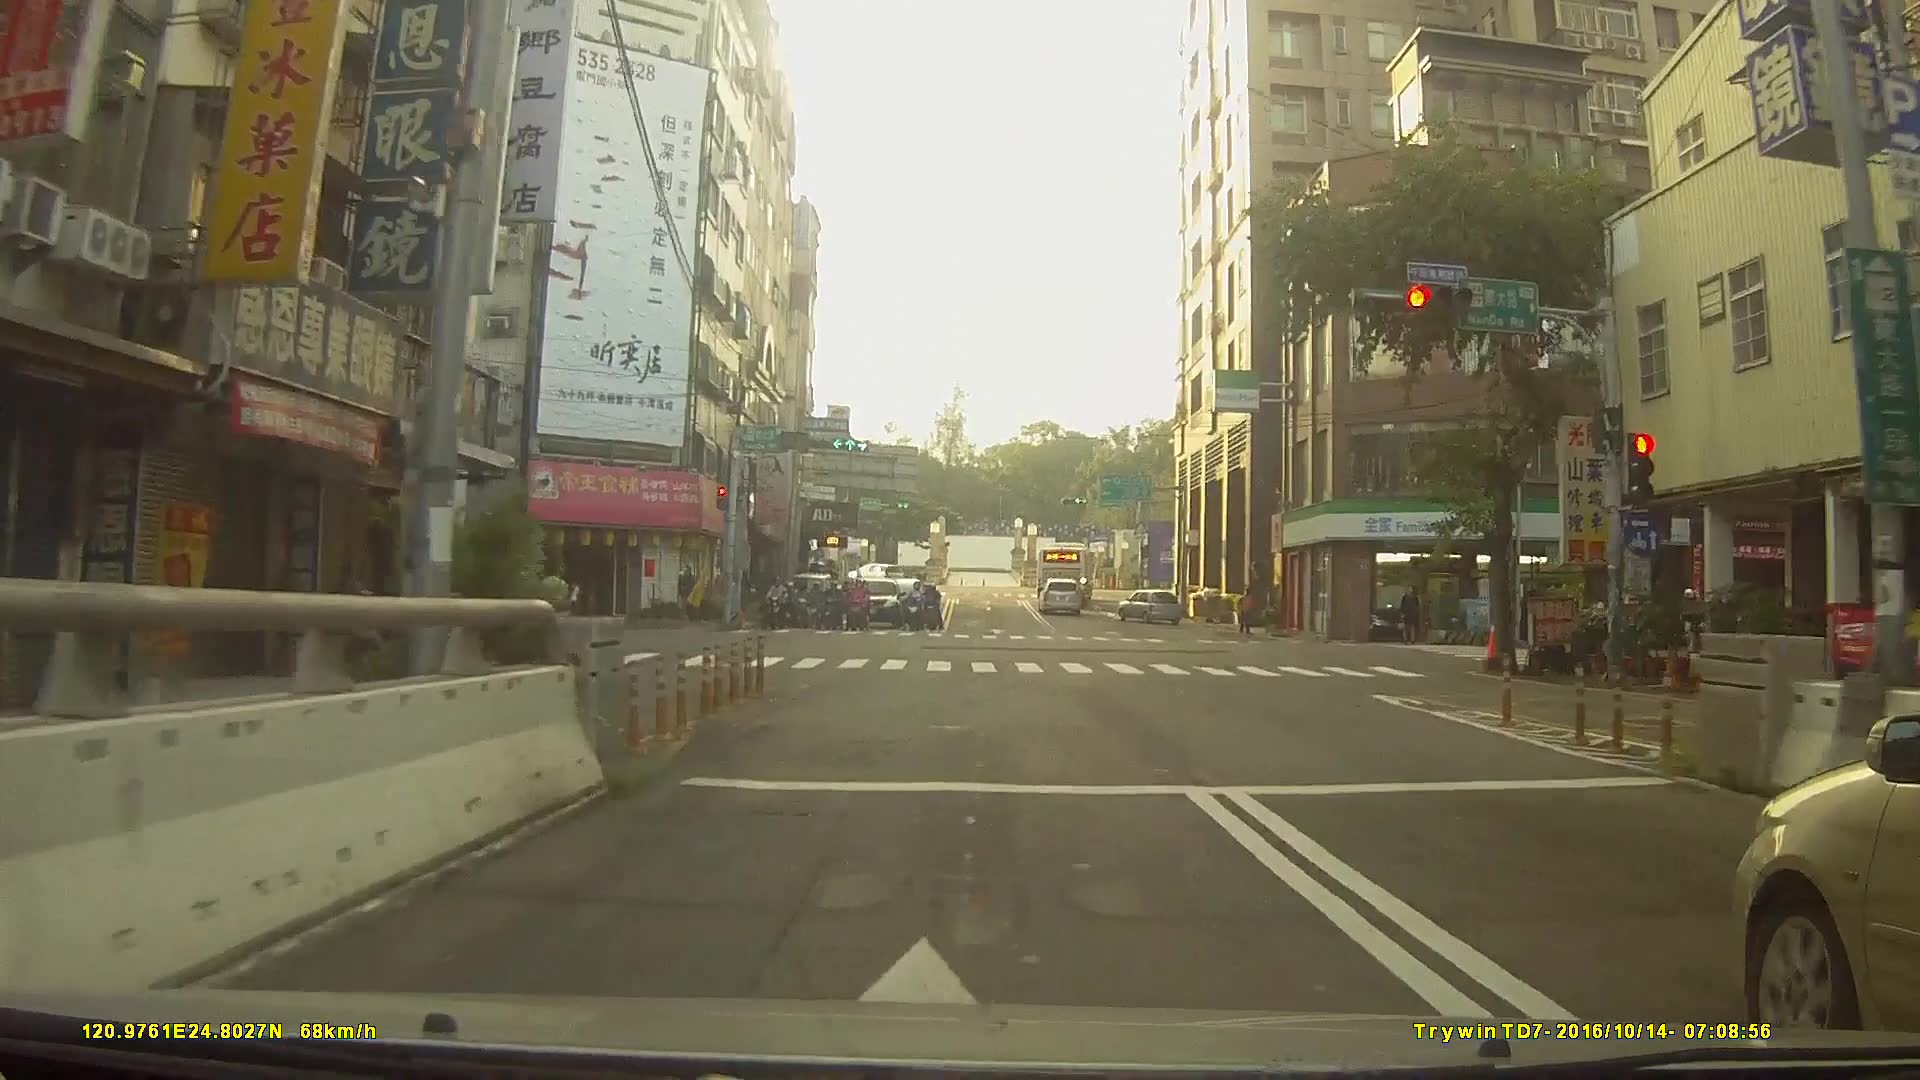pedestrian: (531, 563, 574, 659), (1393, 584, 1420, 644), (1236, 587, 1257, 636), (567, 579, 587, 615)
rider: (763, 571, 792, 629), (845, 579, 871, 631), (823, 579, 847, 633), (793, 580, 817, 628), (905, 582, 926, 633), (921, 590, 942, 639)
vehicle: (1734, 699, 1920, 1054), (846, 578, 903, 634), (1034, 541, 1095, 592), (1114, 585, 1182, 621), (846, 559, 905, 588), (1037, 577, 1085, 612)
